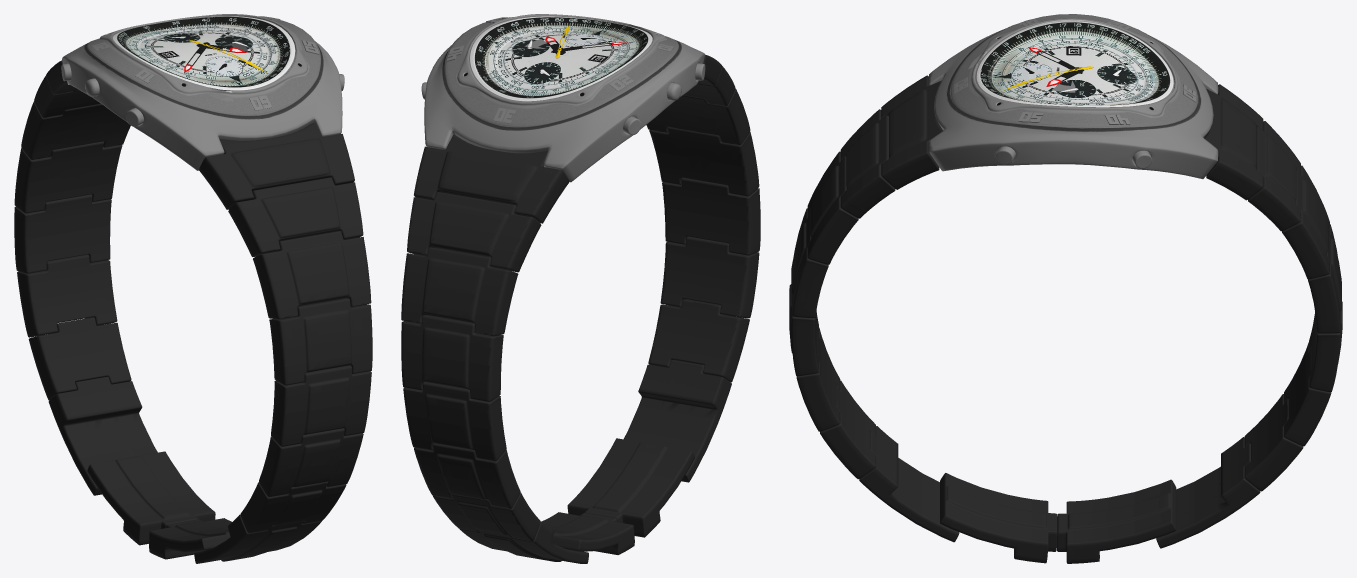
File: watch1.glb
3 renders of one model, left to right at view 1: azimuth 30°, elevation 25°; view 2: azimuth 150°, elevation 25°; view 3: azimuth 270°, elevation 25°, orthographic.
Visible parts, largest first — view 1: 11799_Watches_v1_L2.001; view 2: 11799_Watches_v1_L2.001; view 3: 11799_Watches_v1_L2.001.
Boxes of the visible parts, x1,y1,x2,y2 form: 11799_Watches_v1_L2.001: [14, 14, 372, 563]; 11799_Watches_v1_L2.001: [401, 14, 760, 563]; 11799_Watches_v1_L2.001: [789, 14, 1342, 563].
Size of the model in its own units: 1.17 by 2.49 by 2.48.
6 materials, 3 textured.
